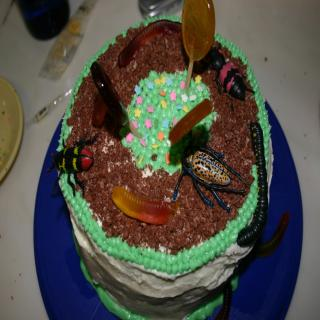Cake: (45, 12, 277, 303)
